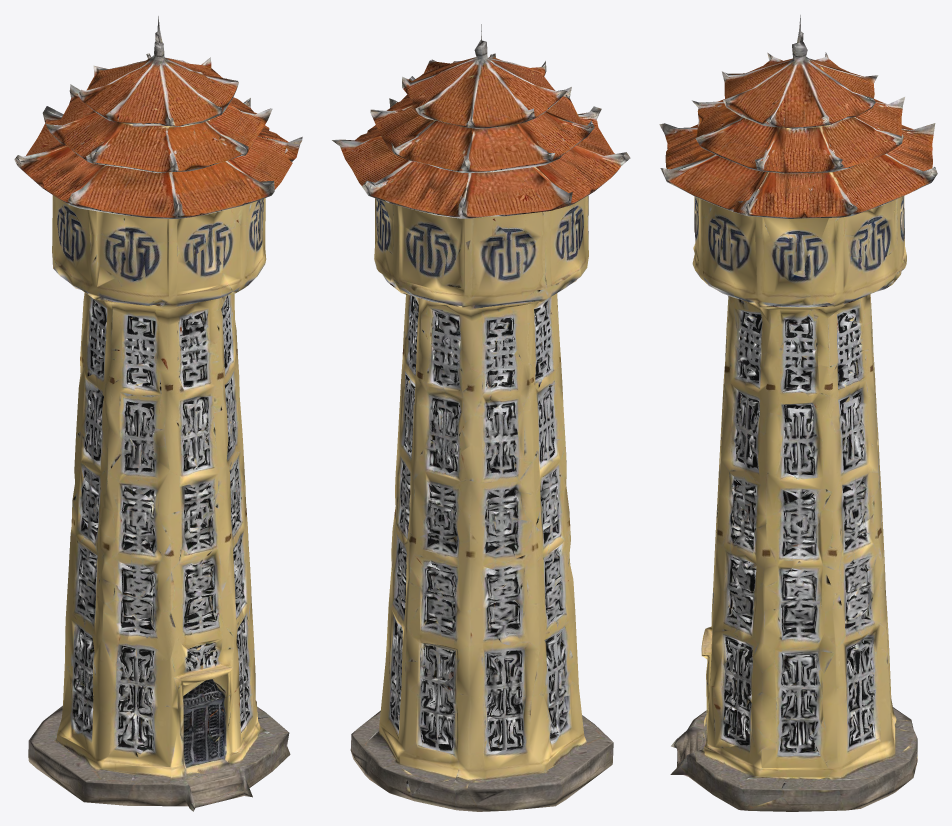
The model's file is thap-nuoc-phan-thiet.glb.
3 views of the same model, side by side, from view 1: azimuth 30°, elevation 25°; view 2: azimuth 150°, elevation 25°; view 3: azimuth 270°, elevation 25° (orthographic).
Bounding box in the file's own units: 0.3362 × 0.9945 × 0.3361.
Materials: 1 (1 with a texture image).
